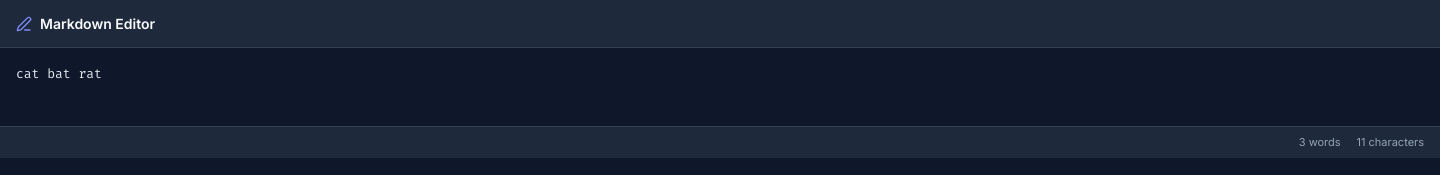
Editor Component Search and Replace › supports regex searching
The image size is (1440, 175).
Step 1. Press f
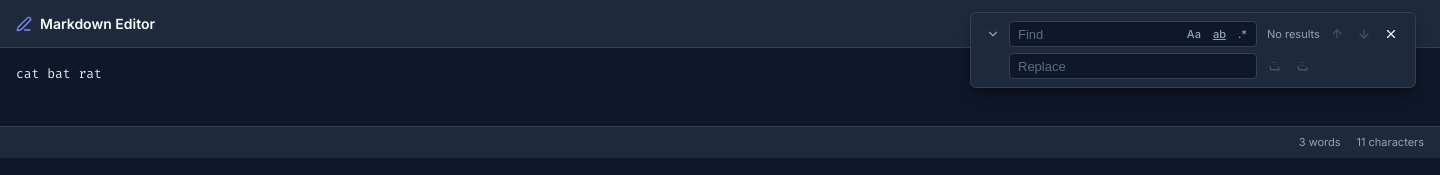
Step 2. Type "[c|b]at" into the field with placeholder "Find" → (1133, 34), box x1=1010 y1=22 x2=1256 y2=46
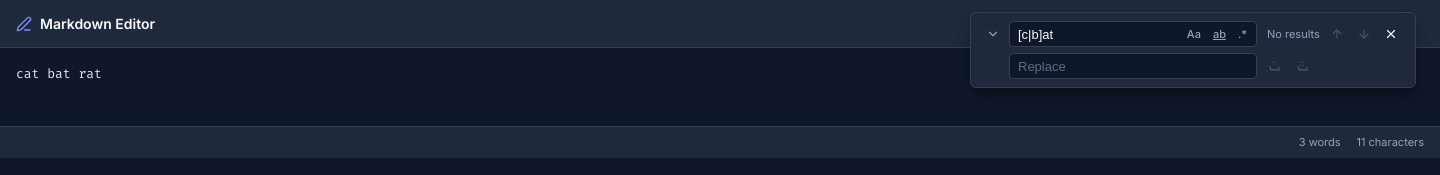
# Enable Regex toggle
Step 3. Click the button titled "Use Regular Expression (.*)" → (1242, 34), box x1=1233 y1=25 x2=1252 y2=43
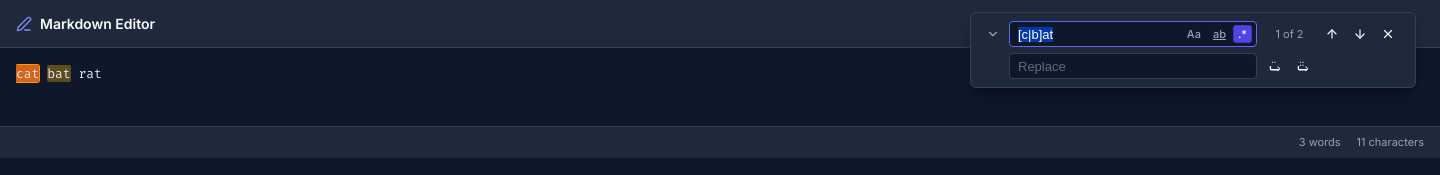
Now the text with class "find-replace-status" reads "1 of 2", box x1=1276 y1=27 x2=1304 y2=41
